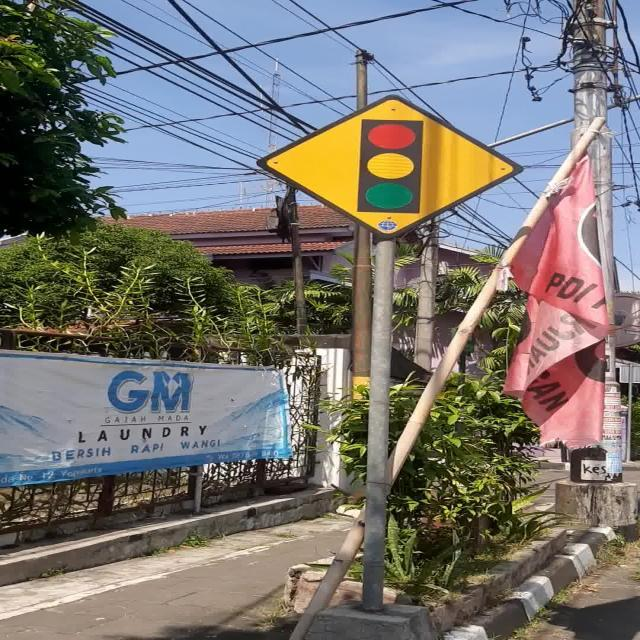Lampu Lalu Lintas: (256, 94, 525, 238)
